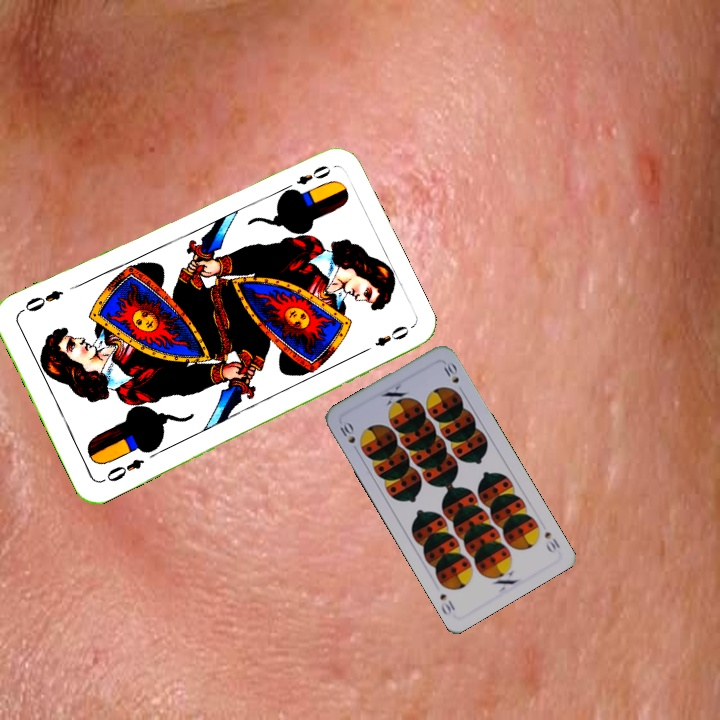EO: (279, 161, 333, 195), (98, 454, 147, 485)
S10: (336, 417, 362, 456), (540, 527, 563, 556)
